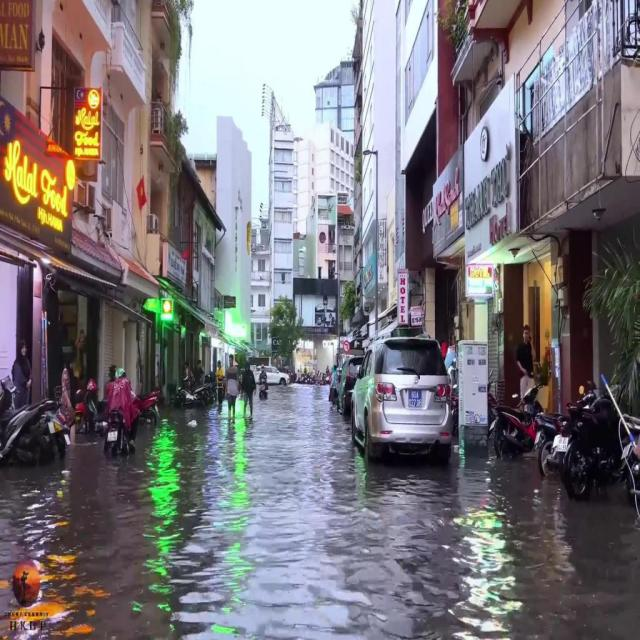cam_re_trai: (343, 340, 350, 352)
